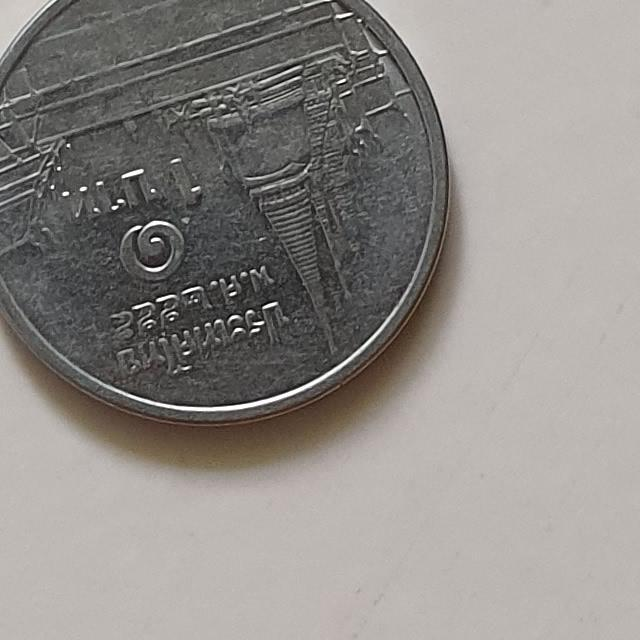1 Bath: (1, 1, 461, 435)
